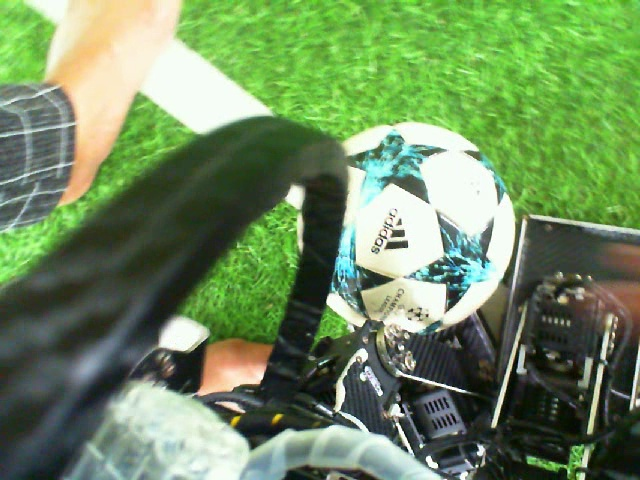ball: (318, 119, 518, 339)
